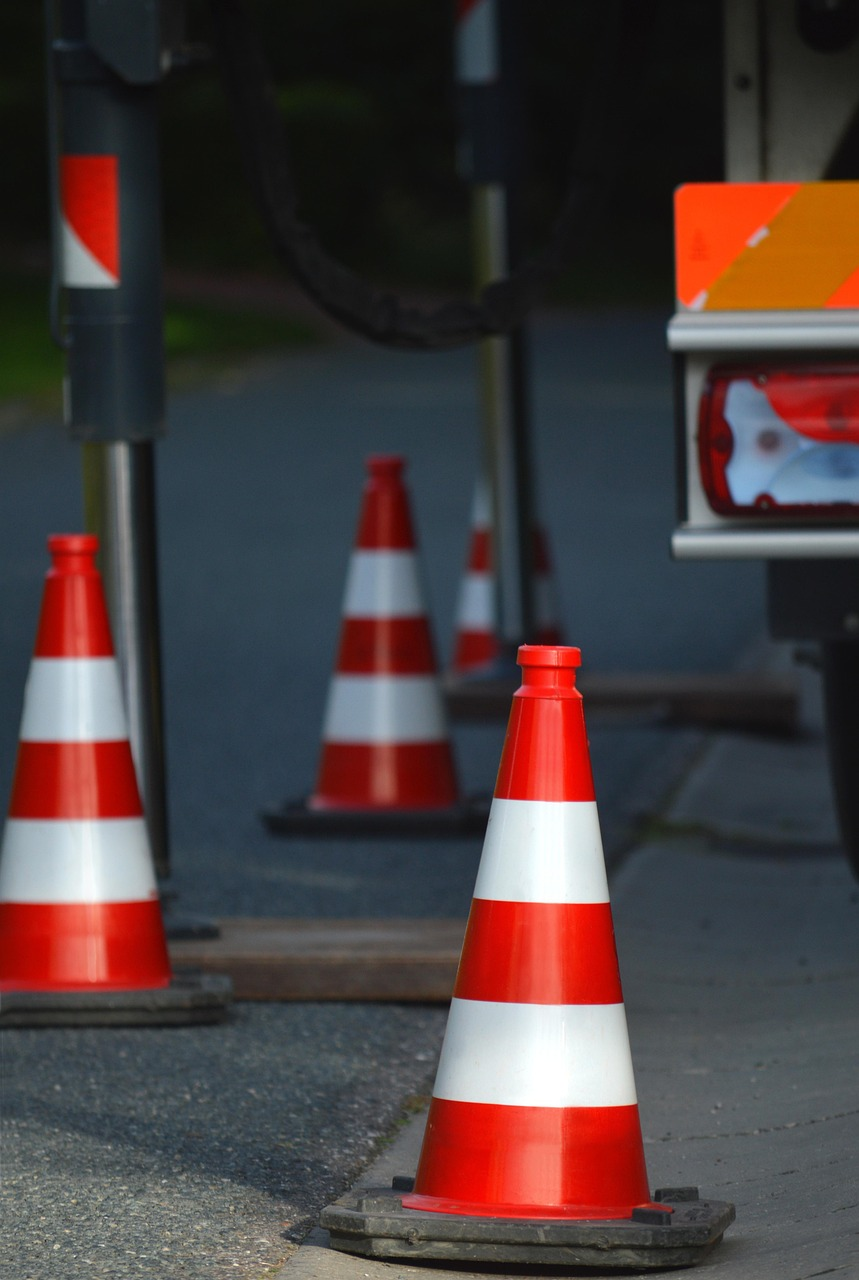traffic_cone: (319, 643, 735, 1271), (1, 531, 233, 1028), (260, 453, 485, 837), (445, 476, 510, 689), (522, 521, 569, 647)
